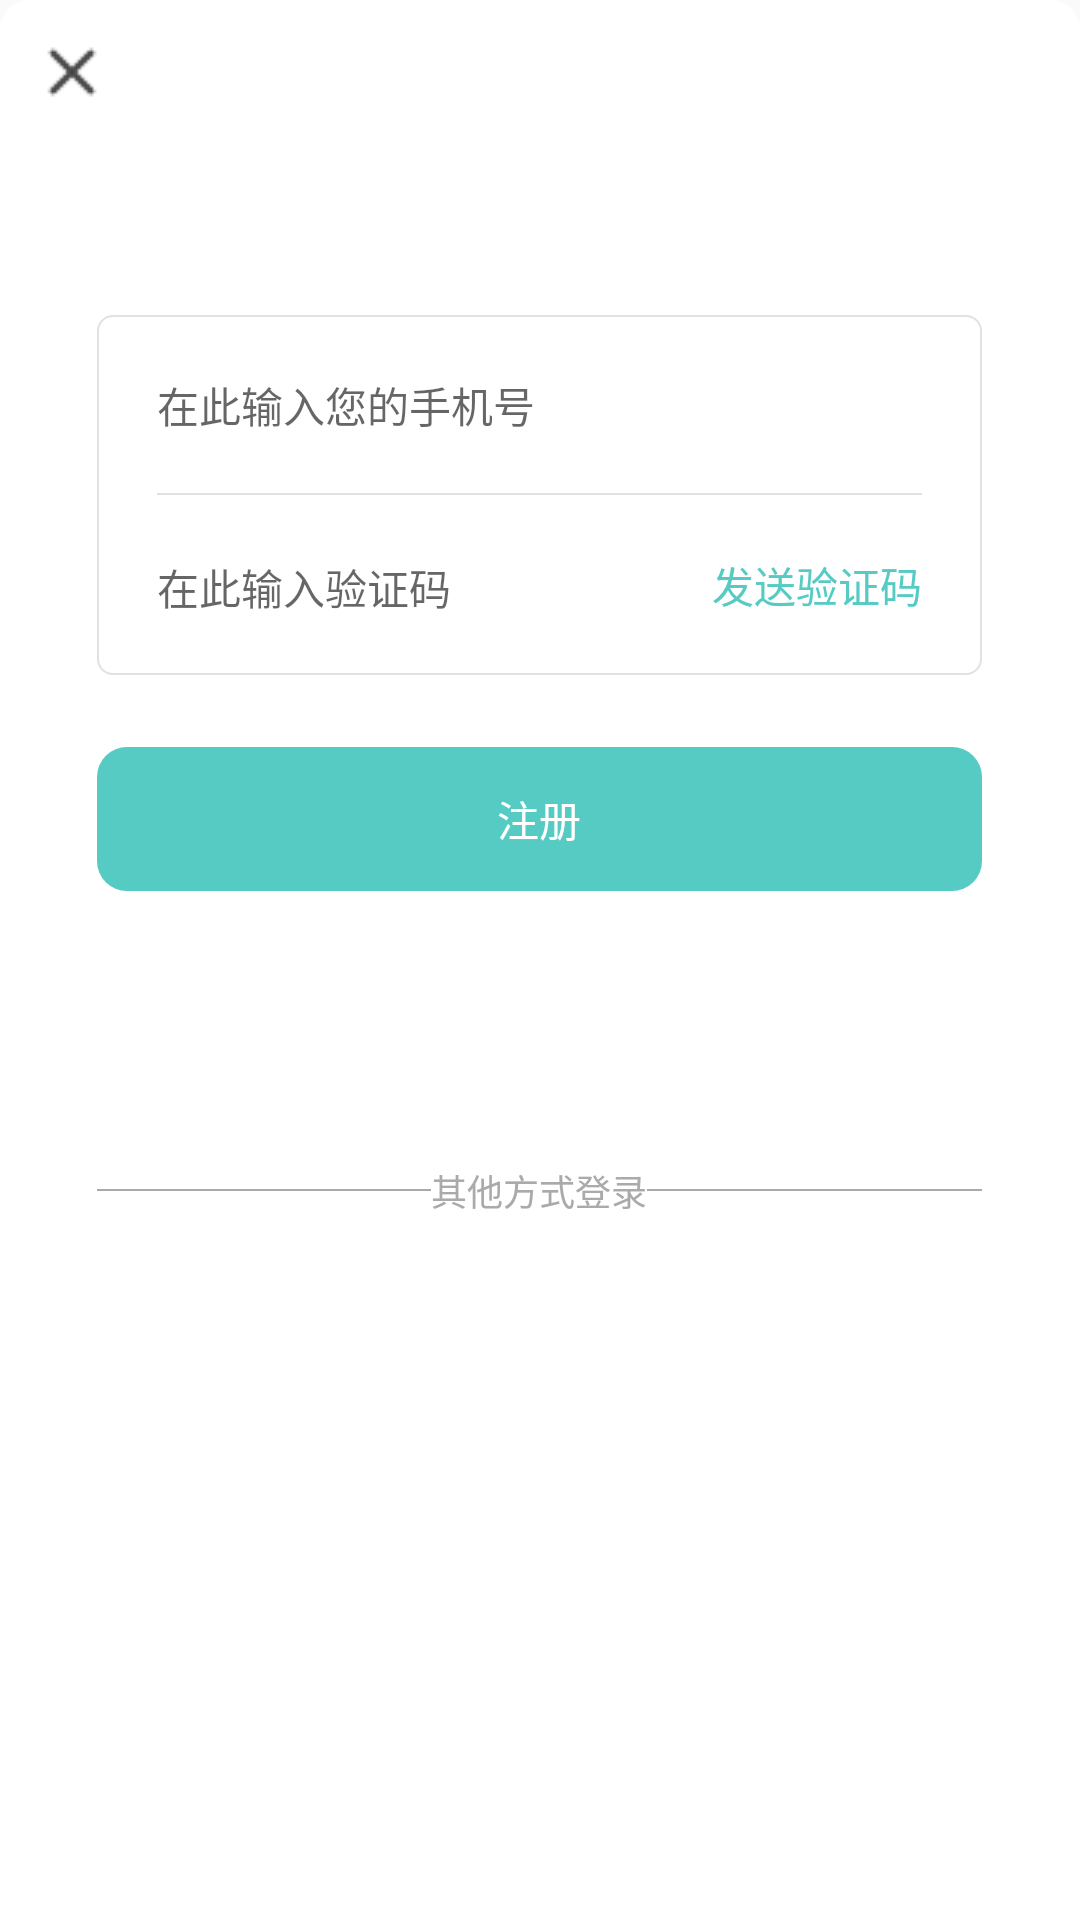

Named icons in this screenshot (1080x1920) and their centers, point (x, y):
src login close: point (72, 72)
